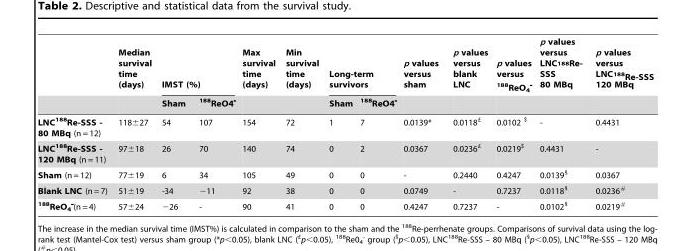table: (37, 37, 653, 211)
table column: (37, 37, 112, 211), (587, 37, 653, 211), (534, 37, 587, 211), (191, 37, 238, 211), (444, 37, 491, 211), (399, 37, 444, 211), (279, 37, 323, 211), (355, 37, 399, 211), (112, 37, 155, 211), (491, 37, 534, 211), (238, 37, 279, 211), (155, 37, 191, 211), (323, 37, 355, 211)
table column header: (37, 37, 653, 111)
table row: (37, 37, 653, 94), (37, 111, 653, 139), (37, 139, 653, 166), (37, 94, 653, 111), (37, 166, 653, 182), (37, 182, 653, 197), (37, 197, 653, 211)
table spanning cell: (587, 37, 653, 111), (155, 37, 238, 94), (323, 37, 399, 94), (534, 37, 587, 111), (444, 37, 491, 111), (399, 37, 444, 111), (279, 37, 323, 111), (112, 37, 155, 111), (491, 37, 534, 111), (238, 37, 279, 111)
